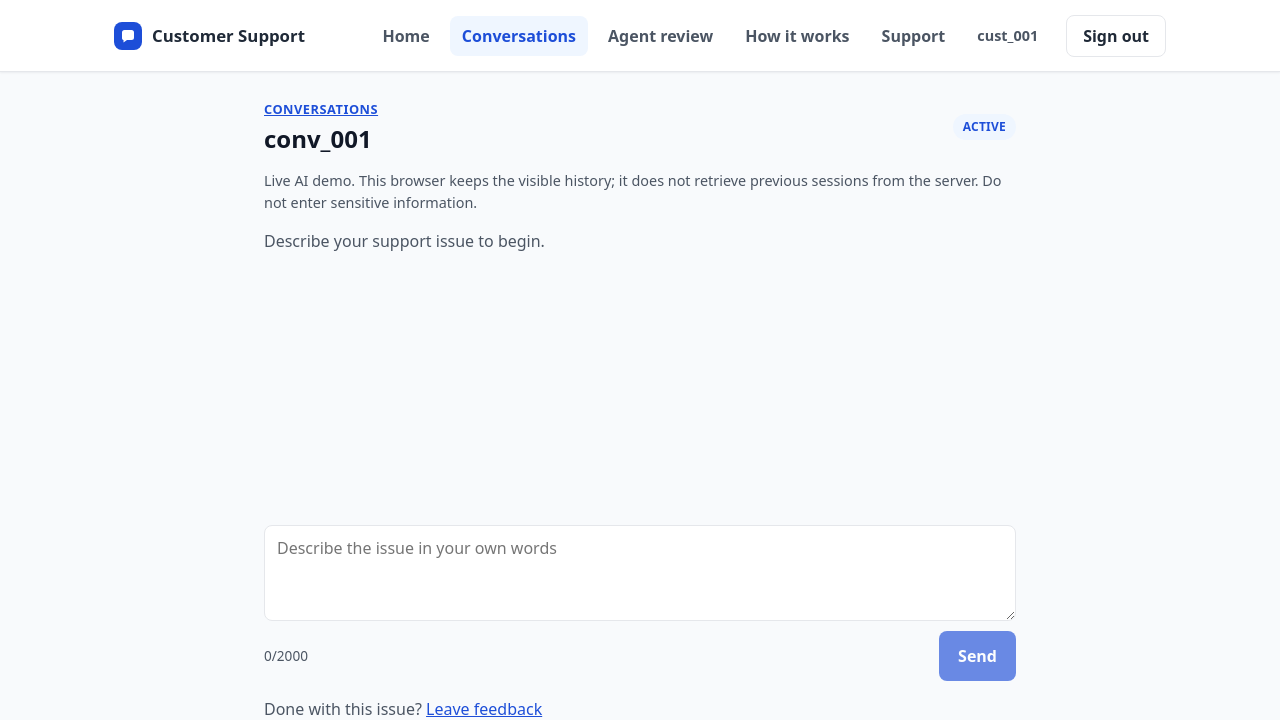
Test: customer support workflows › preserves a failed draft, leaves history unchanged, and sends only one pair of messages on retry
Step 1. Type "Cannot log in" into the text box labelled "Describe the issue" → (640, 573), box [264,525,1016,621]
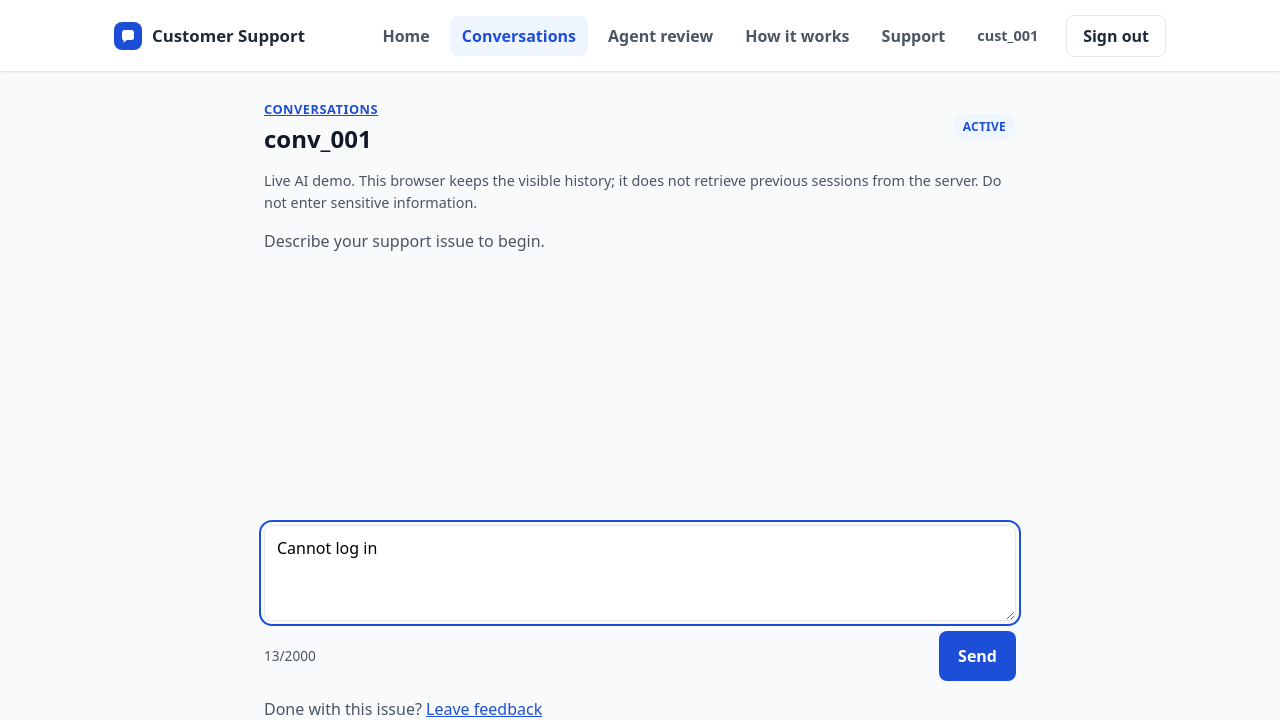
Step 2. Click the button "Send" → (978, 656), box [939,631,1016,681]
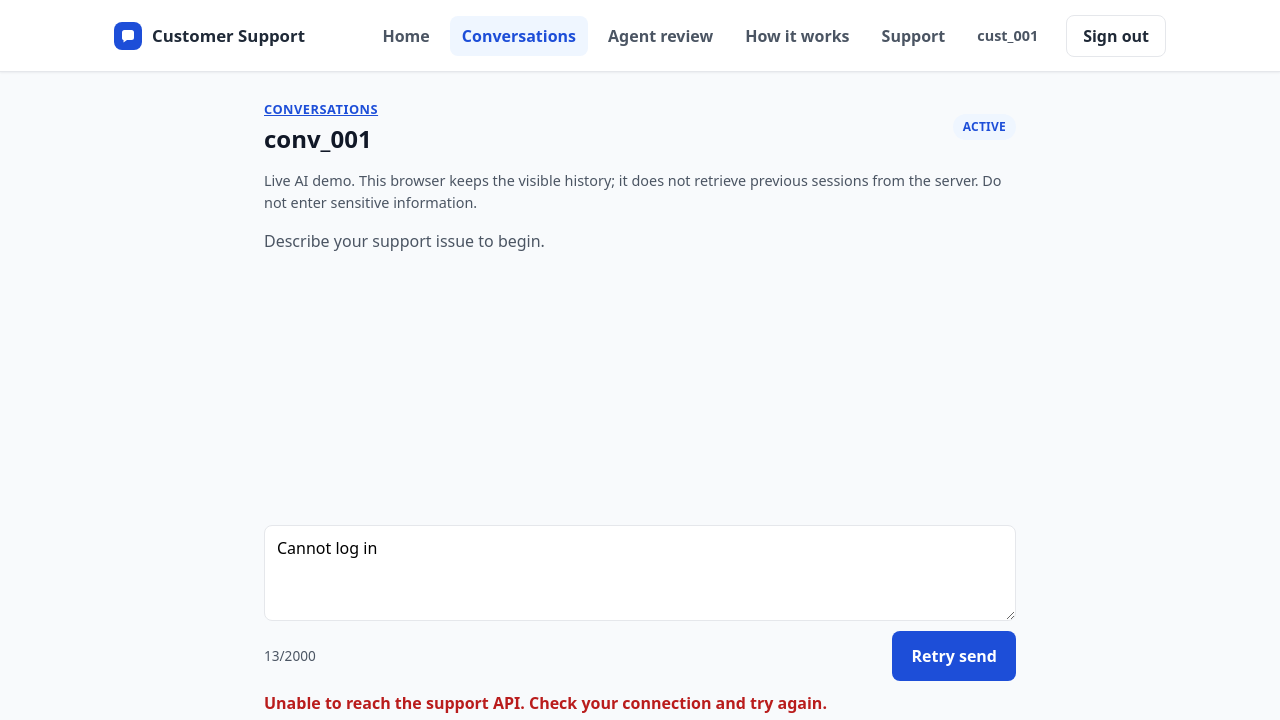
Expected: the message shows "Unable to reach", [264,692,827,714]
Step 3. Click the button "Retry send" → (954, 656), box [892,631,1016,681]
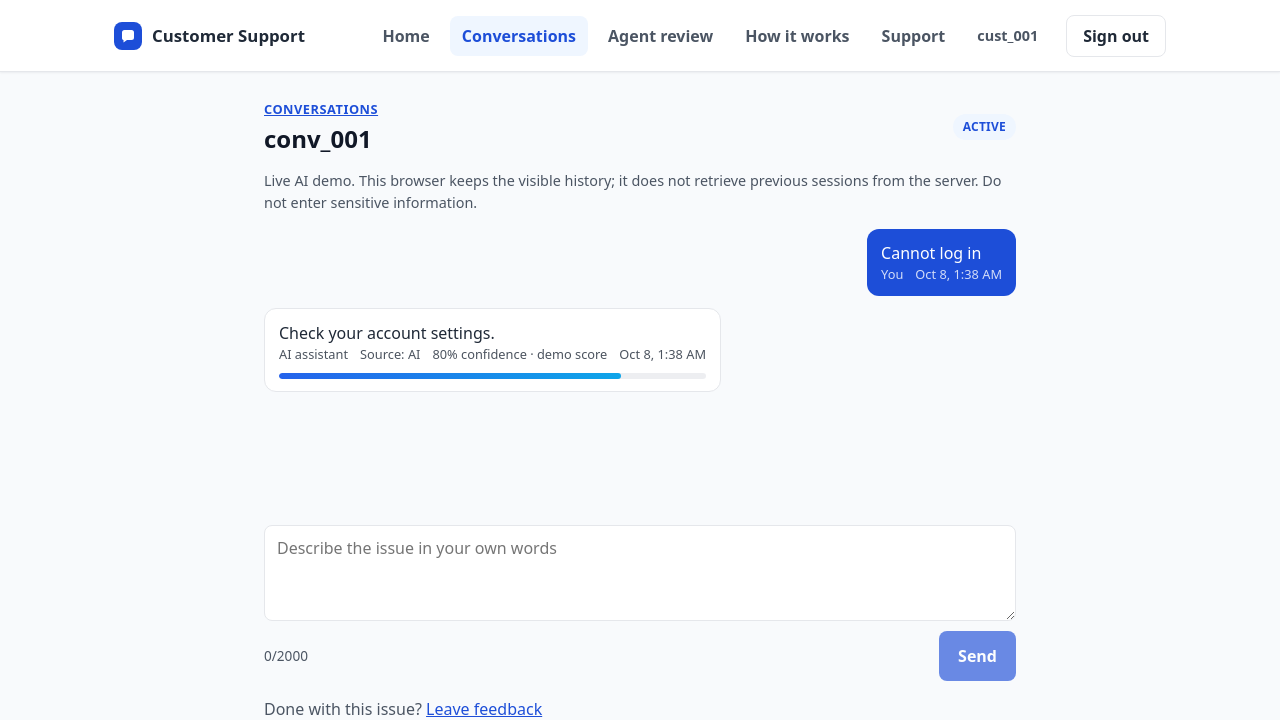
Expected: the text "Check your account settings." is shown, [279,322,495,344]
Expected: the number of elements named "You message" is 1, [867,229,1016,296]
Expected: the text box labelled "Describe the issue" is empty, [264,525,1016,621]
